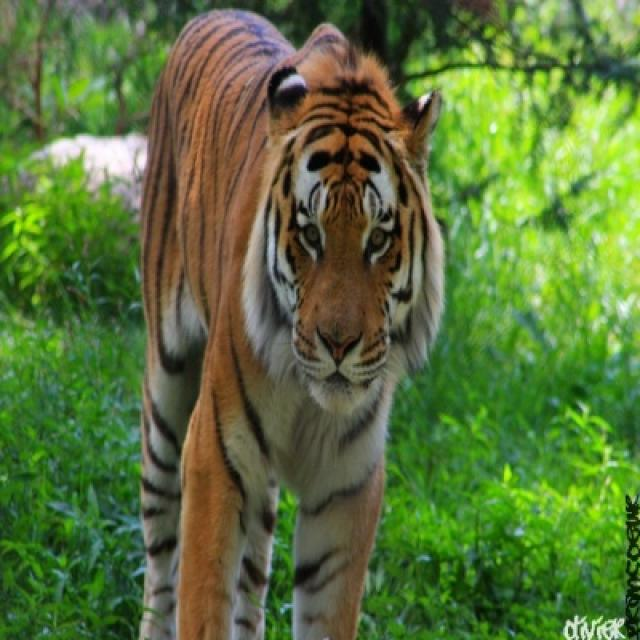Tiger: (137, 8, 446, 638)
